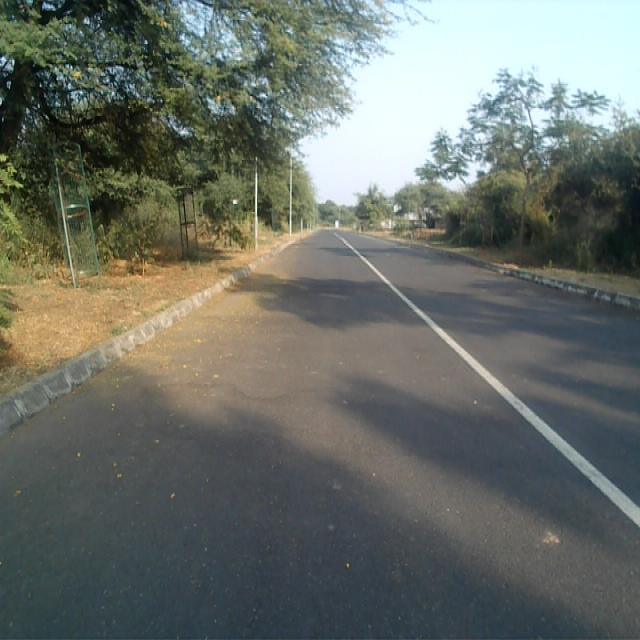lane: (0, 230, 640, 640)
